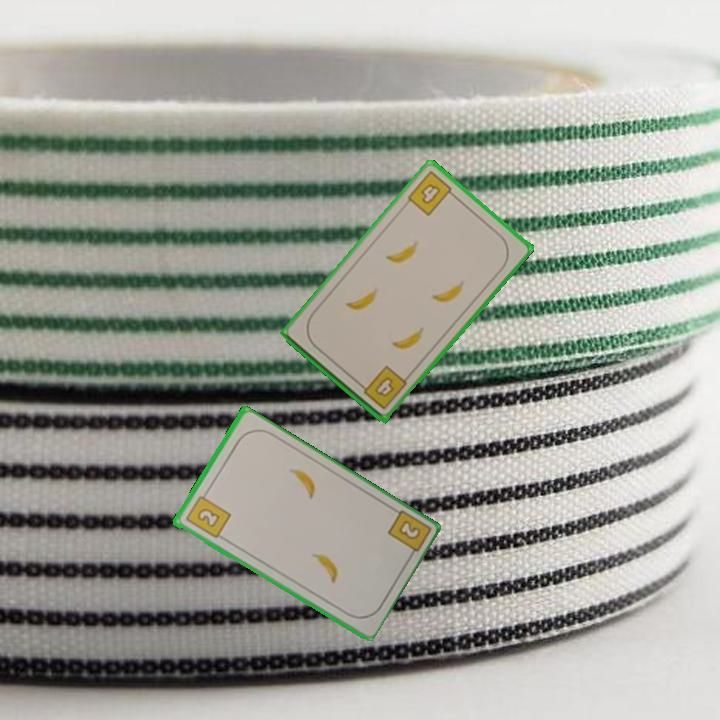2b: (383, 506, 431, 563), (182, 488, 233, 541)
4b: (404, 167, 459, 219), (355, 362, 410, 413)
